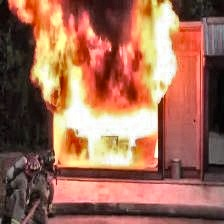fire: (6, 0, 204, 182)
